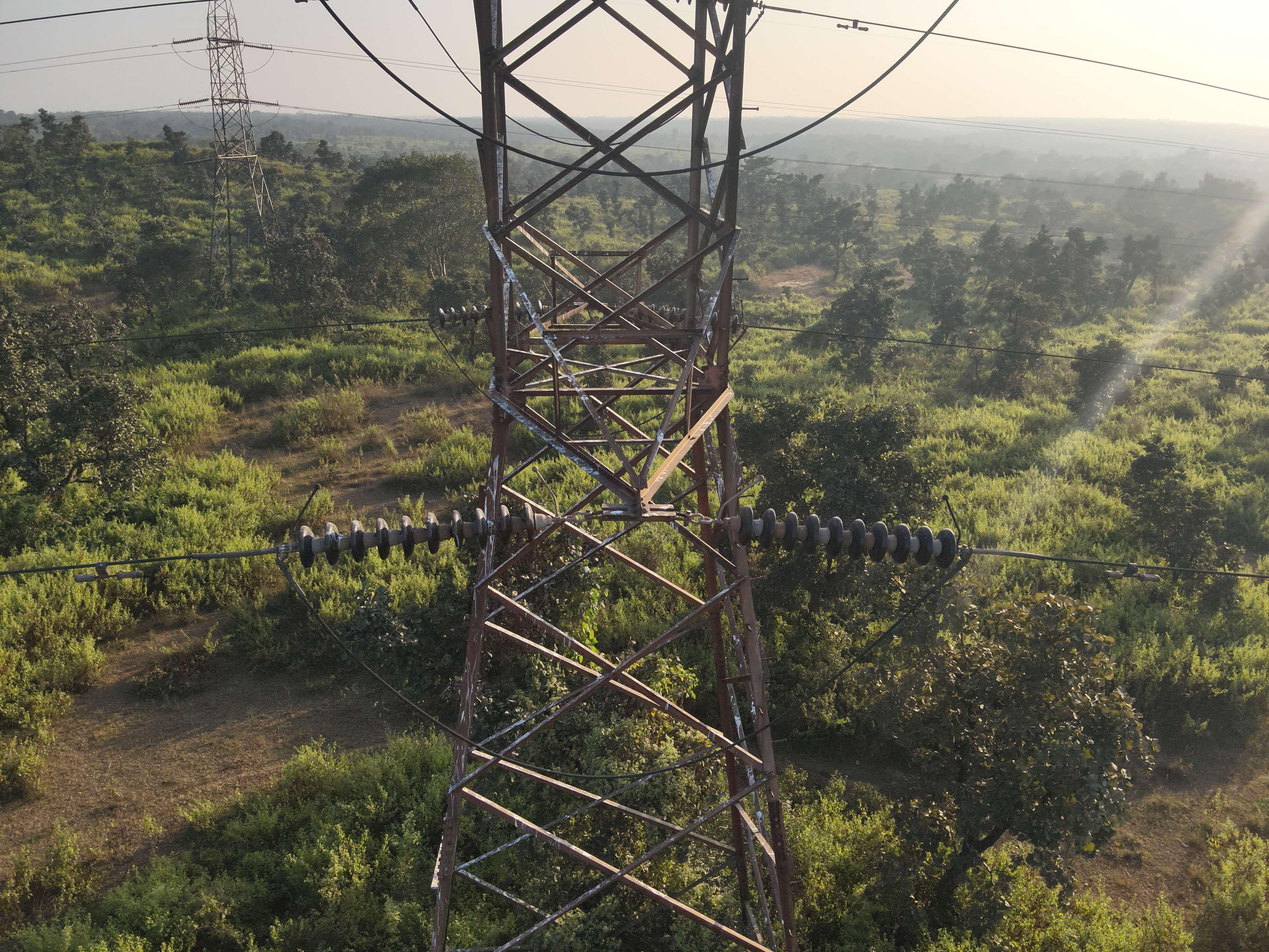broken_insulator: (444, 506, 467, 556)
